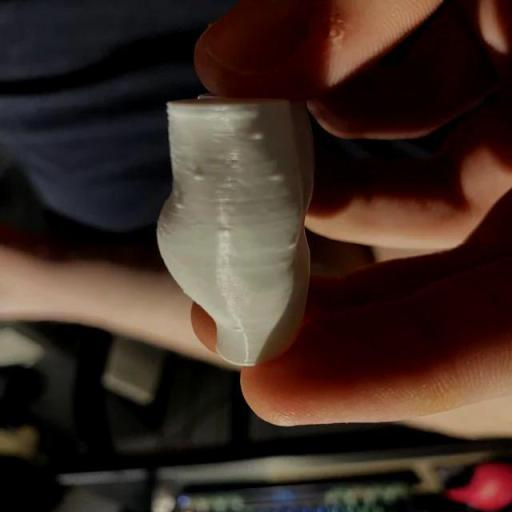blobs: (244, 127, 266, 145), (267, 168, 285, 189), (190, 169, 209, 184), (171, 199, 187, 213), (218, 226, 232, 240), (282, 240, 298, 252)
